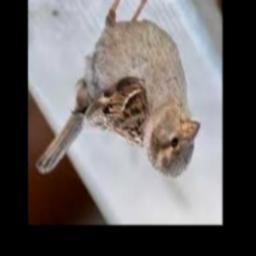Sparrow: (36, 0, 201, 179)
